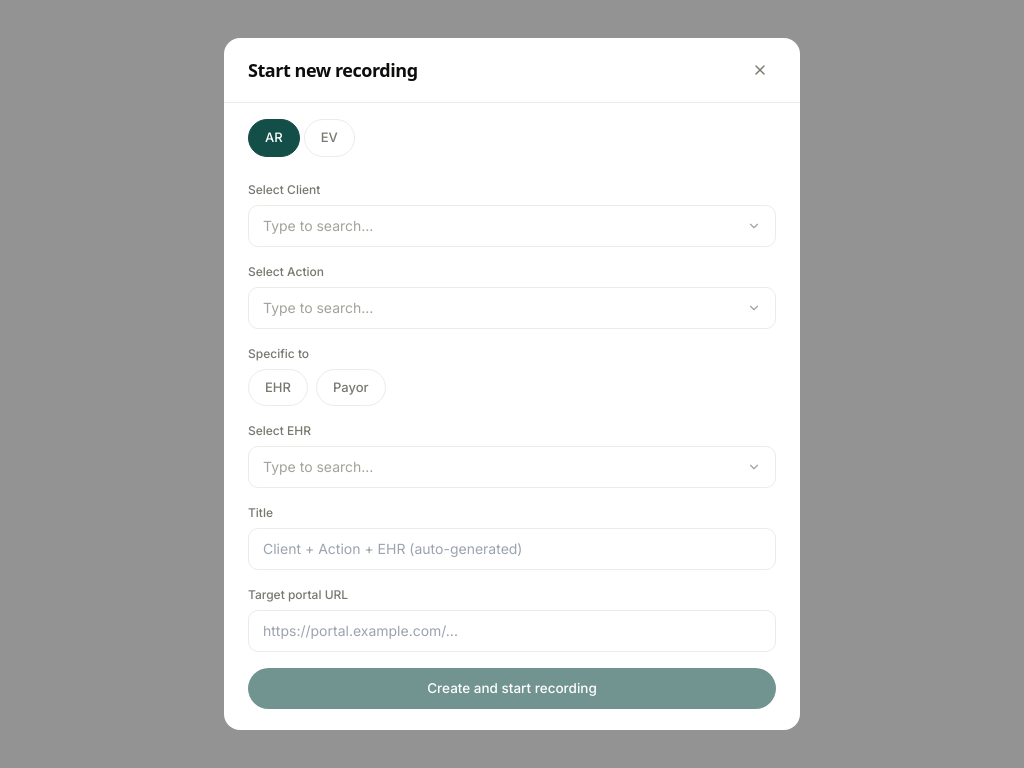
Test case: RecordingFormSectionA › loads Client options from the API for the active LOB
This screenshot has width=1024, height=768.
Click the button "Type to search…" below "Select Client" at (318, 225), box [248,205,776,247]
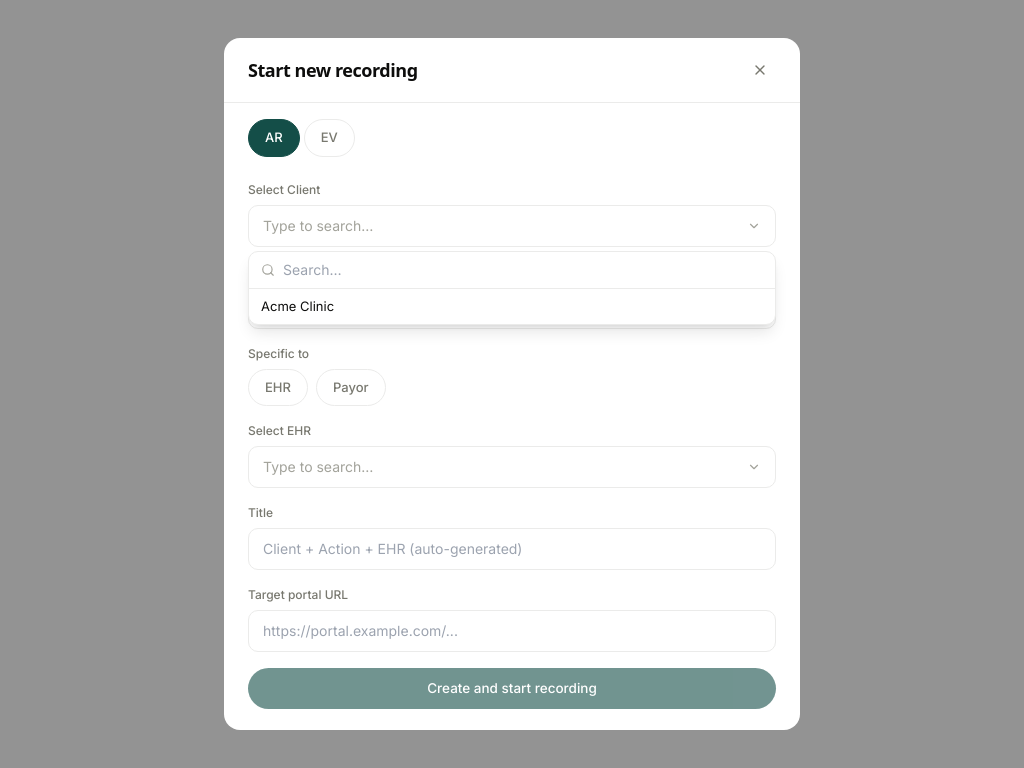
Expected: the button "Acme Clinic" is shown, [249,289,775,324]
